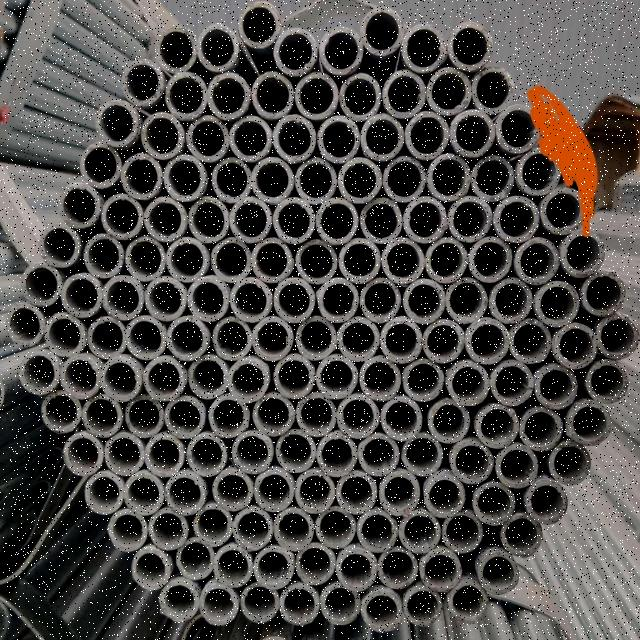pipe: (359, 112, 407, 162), (496, 102, 542, 154), (449, 106, 495, 158), (465, 316, 511, 366), (274, 25, 321, 73), (474, 403, 520, 452), (542, 187, 589, 234), (560, 229, 606, 277), (509, 318, 555, 366), (403, 111, 449, 159), (444, 276, 490, 324), (208, 72, 254, 120), (165, 234, 211, 282), (427, 66, 472, 115), (404, 194, 449, 243), (339, 72, 383, 122), (361, 5, 403, 57), (198, 21, 240, 73), (361, 588, 407, 635), (338, 156, 383, 204), (121, 57, 166, 105), (449, 21, 493, 70), (450, 195, 494, 244), (516, 148, 562, 194), (552, 322, 598, 368), (568, 399, 614, 445), (490, 277, 536, 323), (295, 237, 341, 283), (402, 23, 447, 70), (381, 237, 426, 284), (582, 268, 626, 316), (516, 236, 560, 284), (428, 152, 472, 200), (468, 235, 512, 283), (319, 26, 363, 74), (380, 315, 424, 363), (337, 315, 381, 363), (316, 353, 360, 401), (383, 68, 425, 118), (166, 70, 208, 120), (586, 359, 632, 404), (489, 359, 534, 405), (518, 406, 564, 451), (253, 392, 299, 437), (496, 196, 540, 243), (472, 153, 516, 200), (448, 359, 492, 406), (187, 196, 231, 243), (155, 24, 197, 73), (534, 282, 578, 328), (526, 478, 570, 524), (496, 442, 540, 488), (422, 318, 466, 364), (295, 157, 339, 203), (338, 238, 382, 284), (358, 277, 402, 323), (316, 276, 360, 322), (229, 277, 273, 323), (96, 98, 140, 144), (144, 196, 188, 242), (187, 275, 231, 321), (167, 314, 211, 360), (126, 314, 170, 360), (426, 235, 468, 283), (404, 278, 446, 326), (230, 113, 272, 161), (252, 156, 294, 204), (252, 236, 294, 284), (274, 276, 316, 324), (143, 111, 185, 159), (336, 545, 378, 593), (550, 441, 594, 486), (238, 1, 282, 46), (79, 142, 124, 186), (100, 357, 144, 402), (449, 439, 495, 482), (379, 468, 422, 514), (398, 508, 441, 554), (384, 154, 426, 201), (296, 73, 338, 120), (165, 153, 207, 200), (102, 193, 144, 240), (59, 182, 101, 229), (232, 428, 274, 475), (39, 220, 80, 268), (596, 313, 640, 357), (472, 480, 516, 524), (273, 114, 317, 158), (144, 356, 188, 400), (318, 116, 361, 161), (227, 357, 270, 402), (317, 196, 359, 242), (187, 114, 229, 160), (230, 196, 272, 242), (338, 392, 380, 438), (211, 236, 253, 282), (274, 352, 316, 398), (255, 466, 297, 512), (360, 354, 400, 402), (122, 152, 162, 200), (212, 314, 252, 362), (426, 473, 468, 518), (296, 314, 338, 359), (295, 469, 337, 514), (188, 353, 230, 398), (103, 273, 145, 318), (274, 196, 315, 242), (18, 350, 59, 396), (474, 68, 514, 115), (478, 550, 520, 594), (449, 582, 491, 626), (402, 432, 444, 476), (358, 433, 400, 477), (252, 316, 294, 360), (296, 392, 338, 436), (316, 433, 358, 477), (316, 504, 358, 548), (233, 505, 275, 549), (253, 544, 295, 588), (103, 431, 147, 473), (132, 547, 174, 591), (430, 397, 470, 443), (382, 394, 422, 440), (276, 426, 316, 472), (84, 232, 124, 278), (146, 276, 186, 322), (212, 468, 254, 511), (164, 472, 207, 514), (361, 196, 402, 240), (403, 358, 444, 402), (125, 236, 166, 280), (63, 432, 104, 476), (504, 512, 544, 557), (62, 272, 102, 317), (107, 509, 147, 554), (536, 364, 578, 406), (420, 548, 462, 590), (20, 262, 62, 304), (254, 72, 294, 116), (212, 158, 252, 202), (210, 394, 250, 438), (274, 507, 314, 551), (296, 542, 336, 586), (188, 433, 228, 477), (88, 314, 128, 358), (145, 433, 185, 477), (193, 502, 233, 546), (214, 542, 254, 586), (44, 310, 84, 354), (42, 388, 82, 432), (125, 470, 165, 514), (85, 470, 125, 514), (62, 352, 100, 398), (443, 510, 484, 552), (336, 470, 377, 512), (378, 546, 419, 588), (176, 537, 217, 579), (7, 302, 46, 346), (201, 582, 240, 626), (358, 509, 398, 551), (166, 394, 206, 436), (280, 582, 320, 624), (240, 582, 280, 624), (149, 506, 189, 548), (160, 580, 200, 622), (322, 580, 360, 624), (84, 392, 122, 436), (404, 584, 443, 626), (126, 394, 164, 436)
